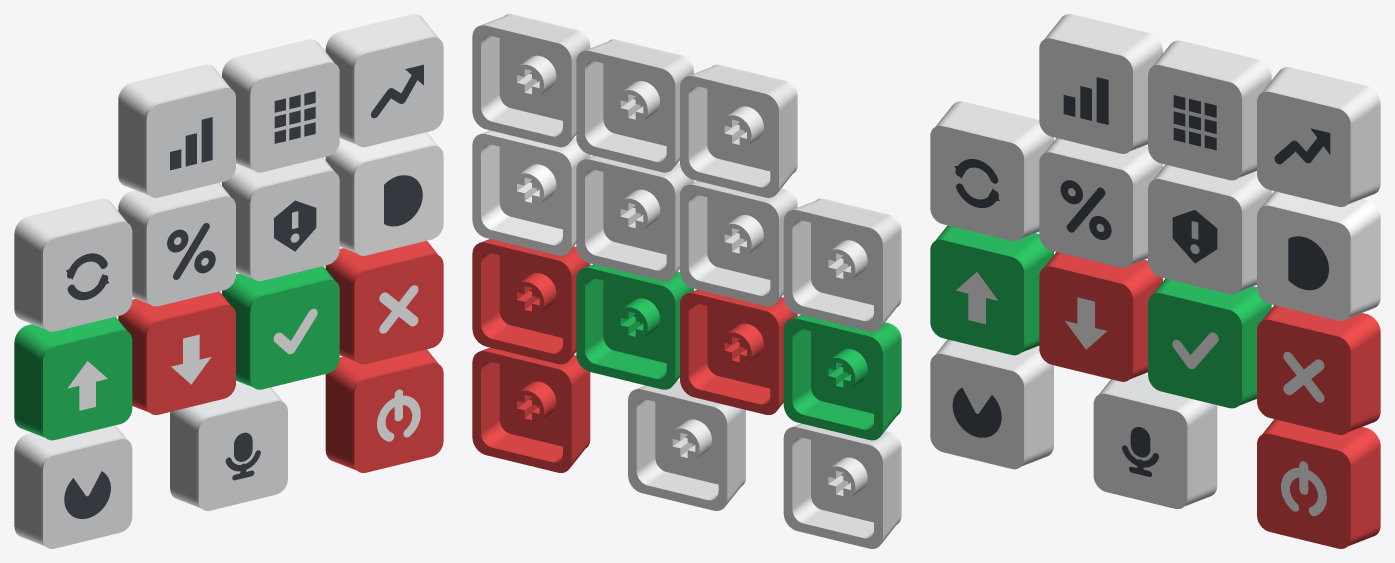
The model's file is preview-caps.glb.
3 views of the same model, side by side, from view 1: azimuth 30°, elevation 25°; view 2: azimuth 150°, elevation 25°; view 3: azimuth 330°, elevation 25° (orthographic). The views are drawn at different scales.
Visible parts, largest first — view 1: rebalance, dca, momentum, buy, mic, kill, grid, portfolio, yes, no, sell, yield (+16 smaller); view 2: rebalance, dca, portfolio, buy, kill, momentum, mic, grid, yield, no, base, risk (+2 smaller); view 3: momentum, mic, no, rebalance, kill, dca, grid, portfolio, base, yes, buy, sell (+16 smaller).
Part boxes in pixels (x1,y1,x2,y2): rebalance: (14, 198, 132, 331); dca: (118, 64, 235, 197); momentum: (325, 14, 443, 147); buy: (14, 316, 132, 440); mic: (170, 382, 287, 510); kill: (325, 349, 443, 472); grid: (222, 39, 339, 172); portfolio: (14, 425, 132, 548); yes: (222, 266, 339, 389); no: (325, 241, 443, 364); sell: (118, 291, 235, 414); yield: (118, 183, 235, 306); rebalance: (783, 198, 901, 331); dca: (680, 64, 797, 197); portfolio: (783, 423, 901, 548); buy: (783, 315, 901, 440); kill: (472, 347, 590, 472); momentum: (472, 14, 590, 147); mic: (628, 380, 745, 510); grid: (576, 39, 693, 172); yield: (680, 181, 797, 306); no: (472, 239, 590, 364); base: (472, 130, 590, 255); risk: (576, 155, 693, 281); momentum: (1257, 67, 1380, 206); mic: (1093, 373, 1217, 508); no: (1257, 305, 1380, 434); rebalance: (930, 101, 1053, 241); kill: (1257, 419, 1380, 548); dca: (1039, 14, 1162, 153); grid: (1148, 40, 1271, 180); portfolio: (930, 339, 1053, 469); base: (1257, 191, 1380, 320); yes: (1148, 278, 1271, 408); buy: (930, 225, 1053, 355); sell: (1039, 252, 1162, 381).
Size of the model in its own units: 75.35 by 75.35 by 7.5.
